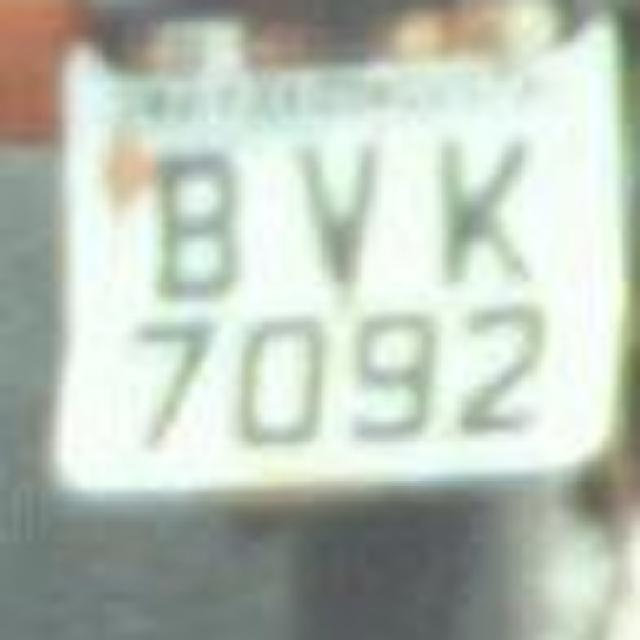2: (420, 292, 568, 456)
7: (96, 288, 229, 460)
9: (324, 292, 456, 452)
B: (132, 128, 268, 304)
K: (416, 125, 556, 300)
Y: (276, 116, 404, 296)
